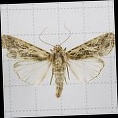Spodoptera litura: (2, 24, 116, 100)
